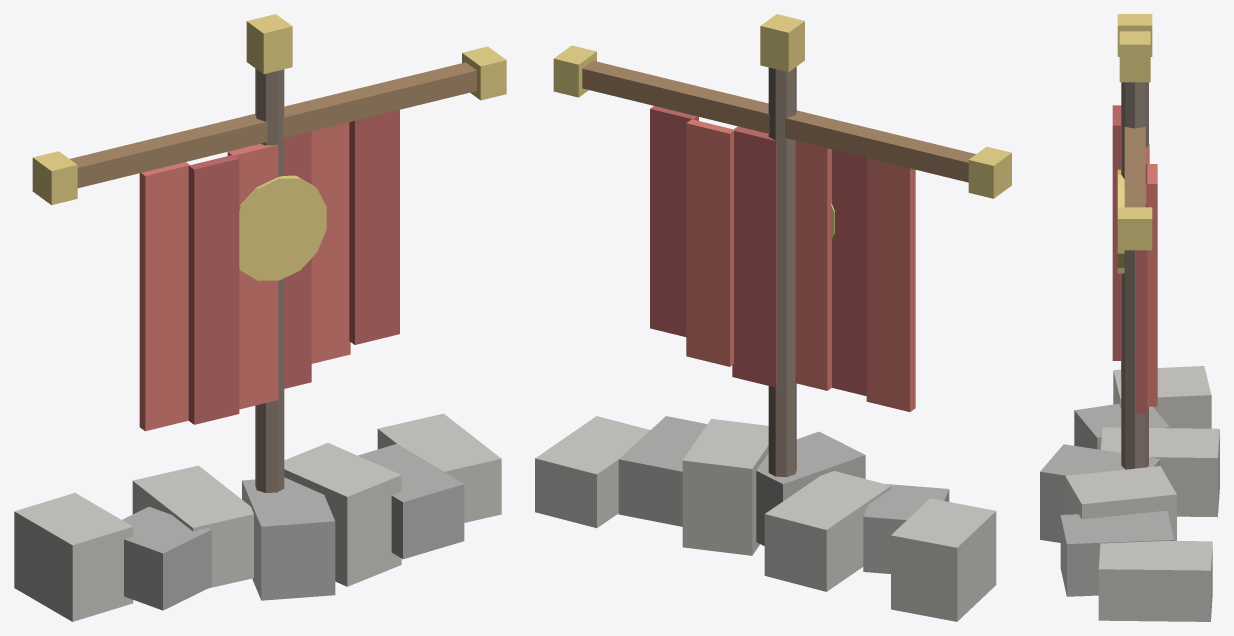
File: ws_city_banner_small.glb
3 renders of one model, left to right at view 1: azimuth 30°, elevation 25°; view 2: azimuth 150°, elevation 25°; view 3: azimuth 270°, elevation 25°, orthographic. The views are drawn at different scales.
Parts seen in each view (by area): view 1: ws_city_banner_small; view 2: ws_city_banner_small; view 3: ws_city_banner_small.
Part boxes in pixels (x1,y1,x2,y2): ws_city_banner_small: (14,14,506,621); ws_city_banner_small: (535,14,1011,621); ws_city_banner_small: (1040,14,1219,621).
Size of the model in its own units: 1.4 by 1.6 by 0.5194.
